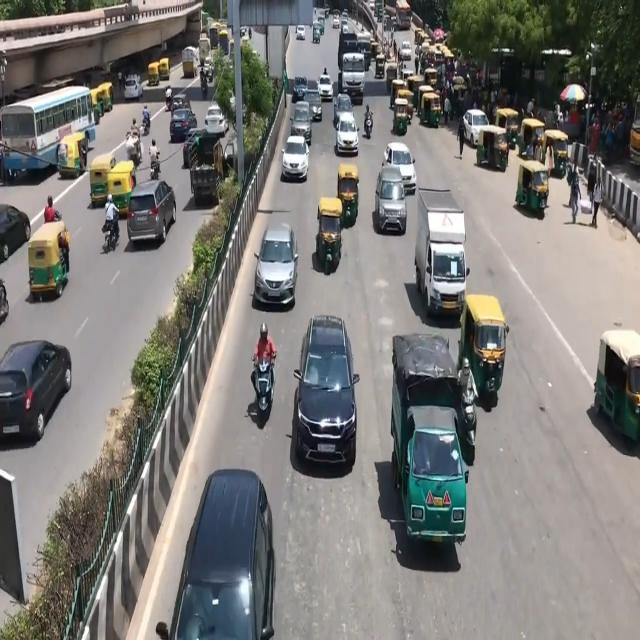Scooty: (244, 320, 279, 429)
Tempo: (394, 336, 466, 557)
